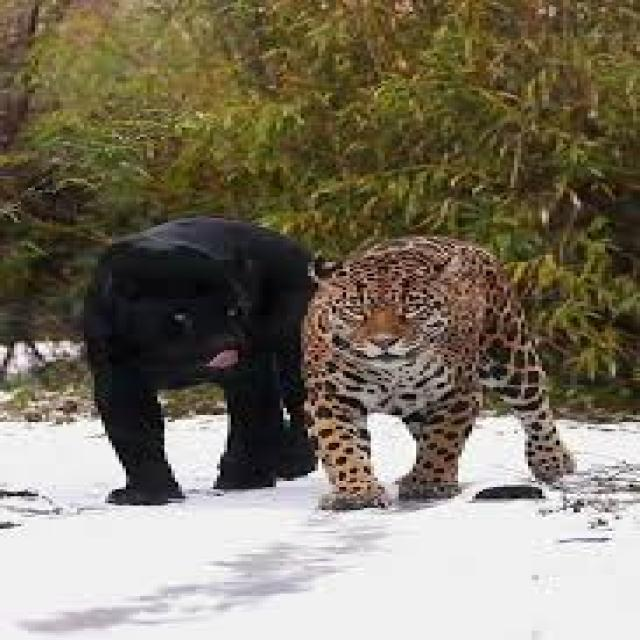Jaguar: (308, 223, 577, 510), (70, 213, 322, 494)
